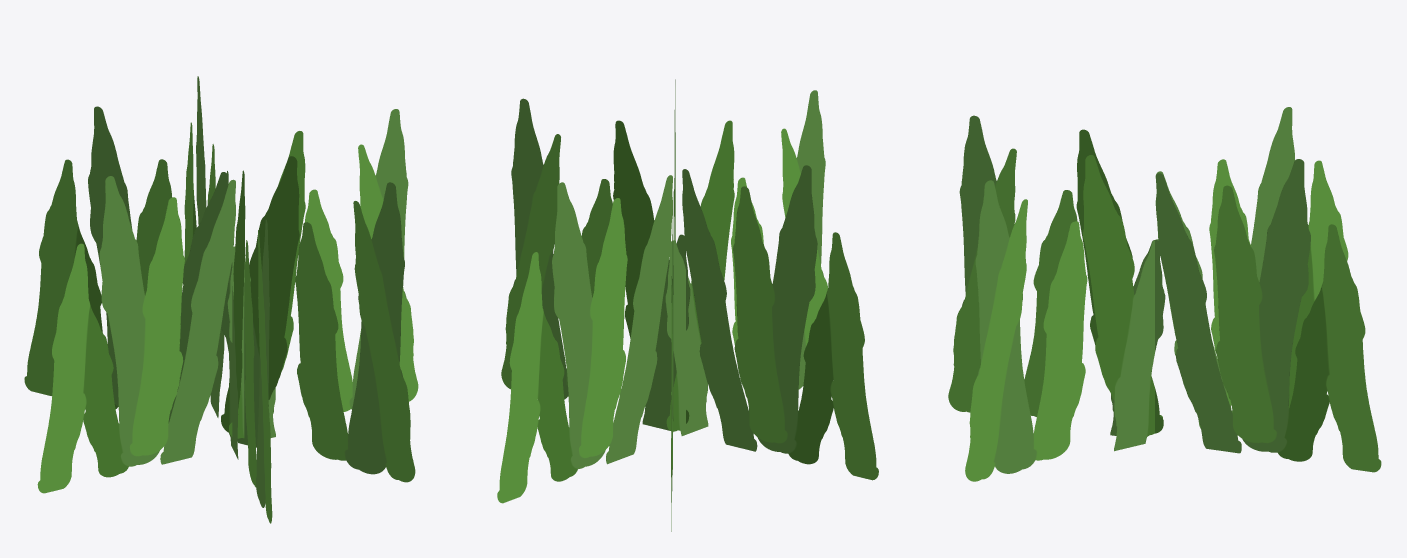
File: model_grama_04.fbx
3 views of the same model, side by side, from view 1: azimuth 30°, elevation 25°; view 2: azimuth 150°, elevation 25°; view 3: azimuth 270°, elevation 25° (orthographic).
Visible parts, largest first — view 1: Plane; view 2: Plane; view 3: Plane.
Part boxes in pixels (x1=…): Plane: x1=24, y1=76, x2=418, y2=523; Plane: x1=497, y1=79, x2=878, y2=531; Plane: x1=948, y1=107, x2=1381, y2=481.
Bounding box in the file's own units: 1.92 × 1.42 × 1.88.
Materials: 1 (1 with a texture image).
